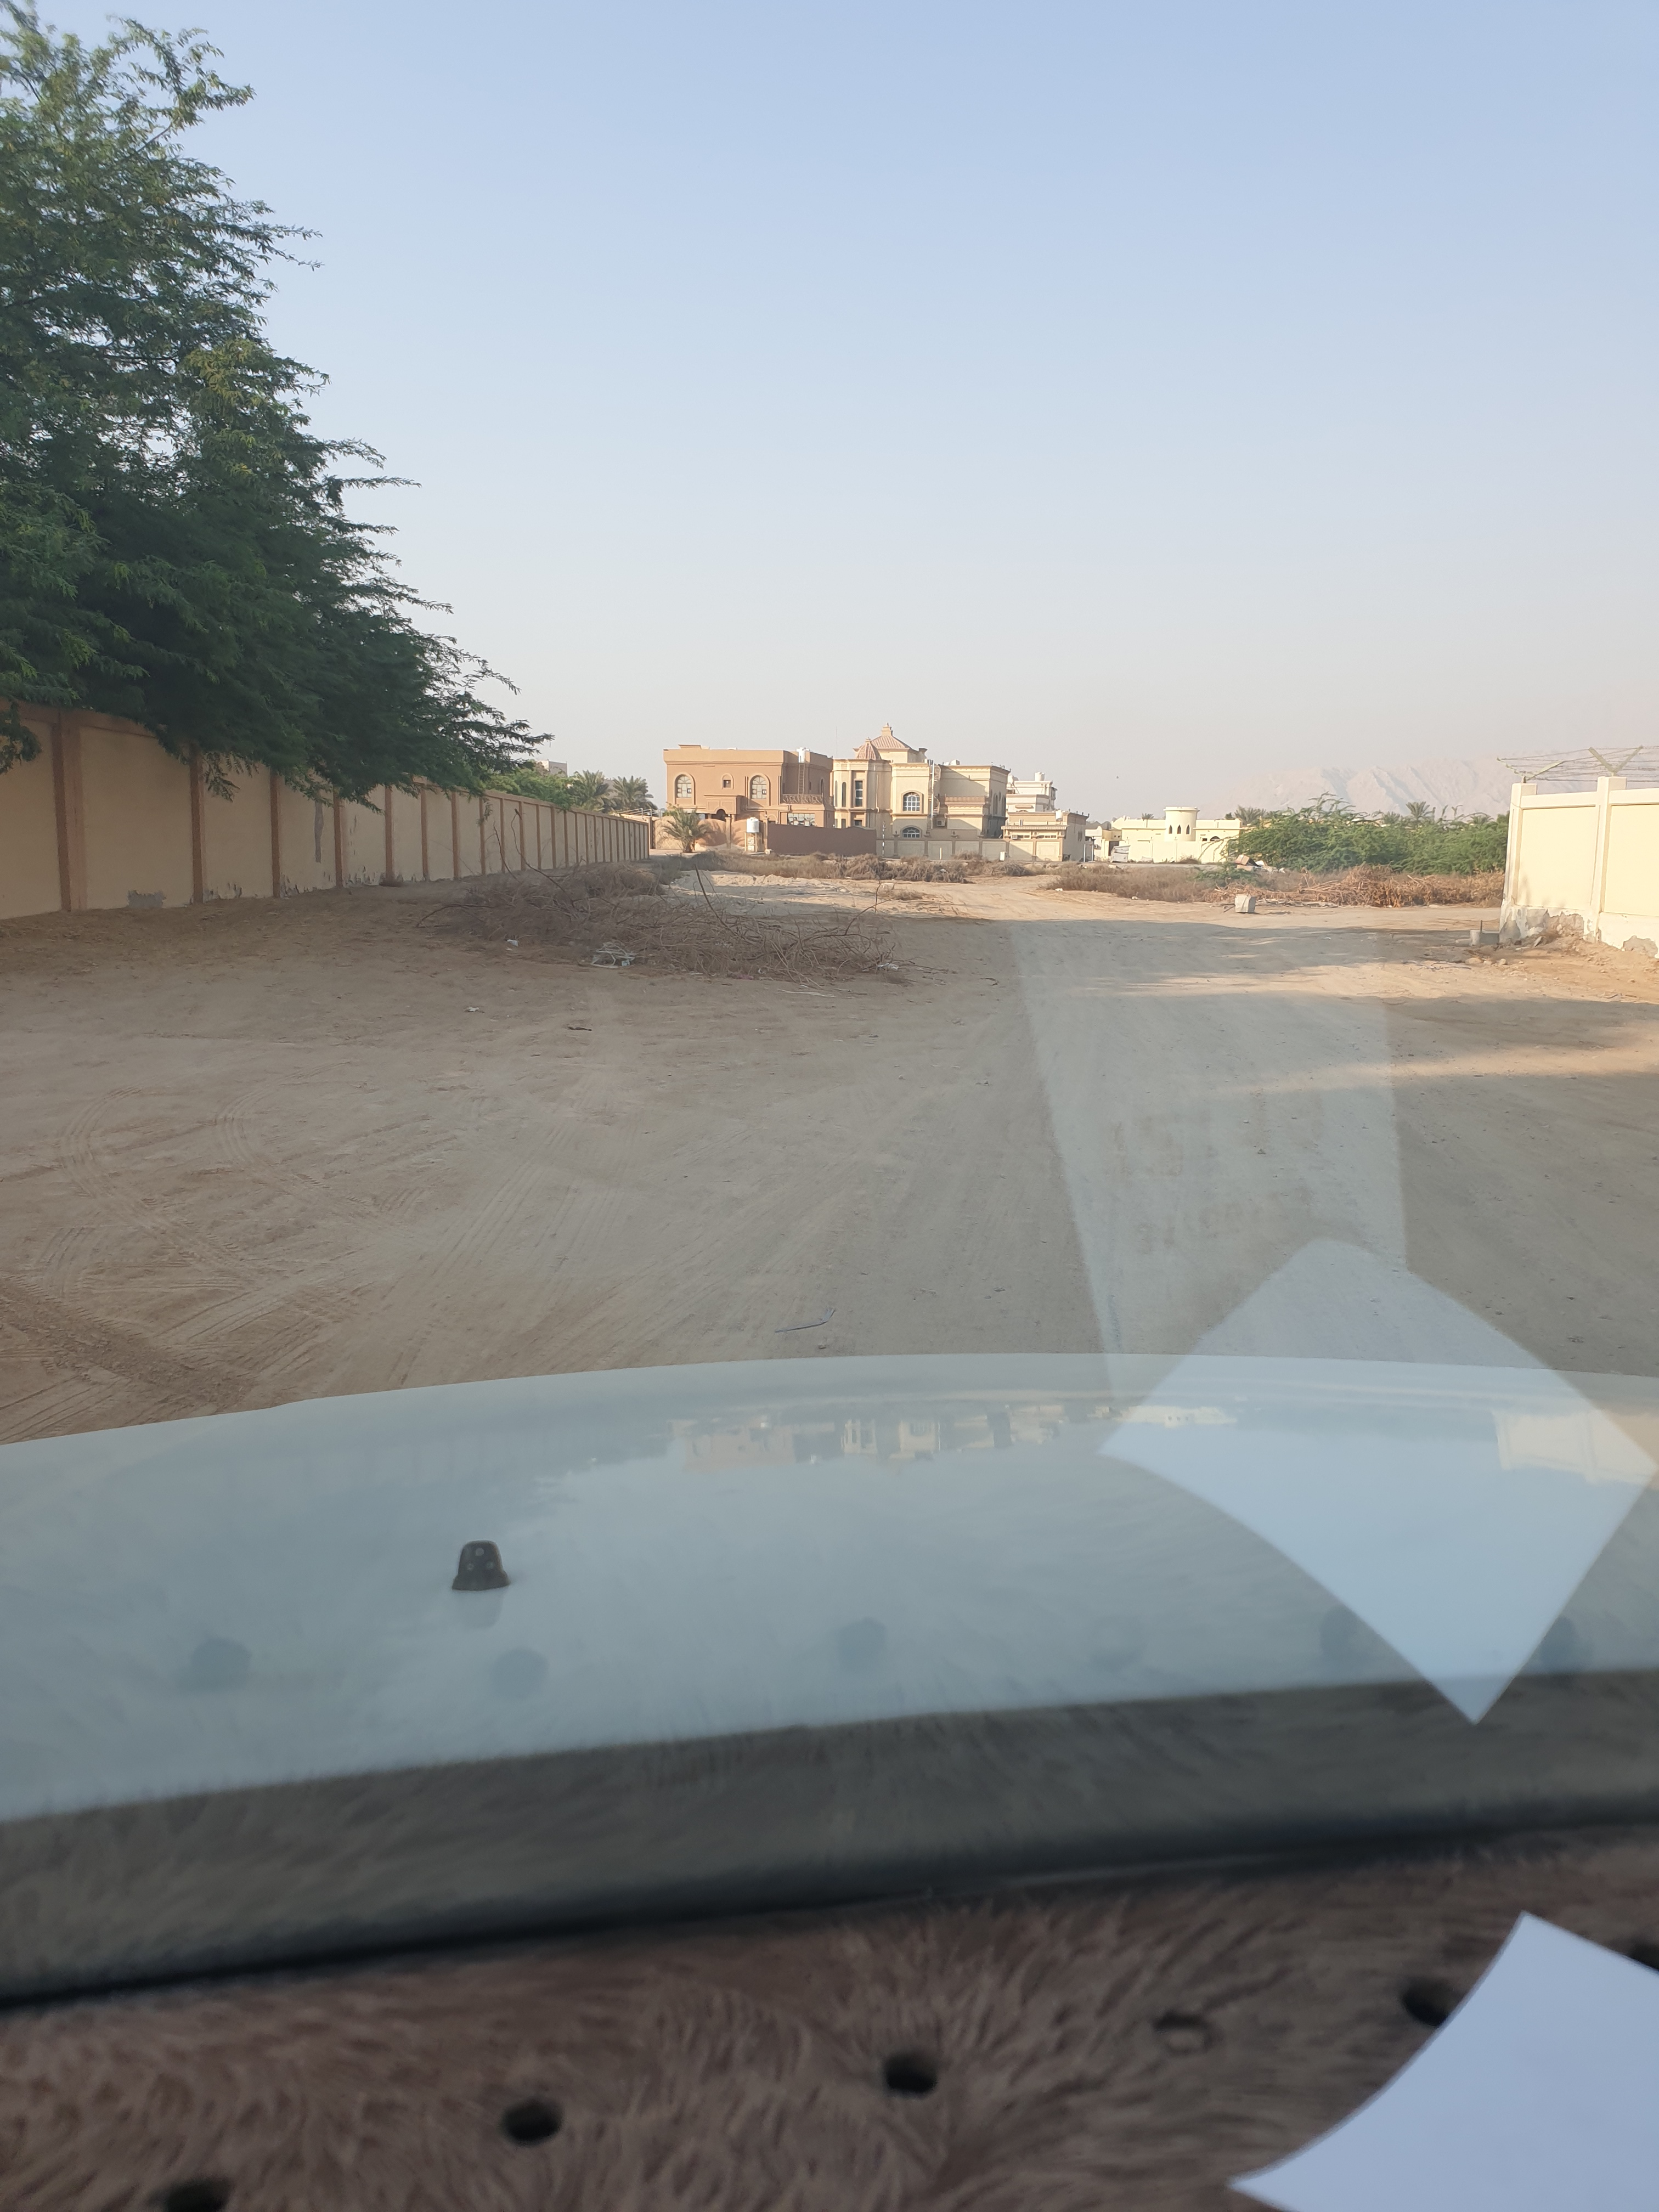fallen_trees: (451, 871, 983, 1000), (1272, 878, 1446, 918), (1309, 890, 1415, 920), (1391, 881, 1485, 914)
